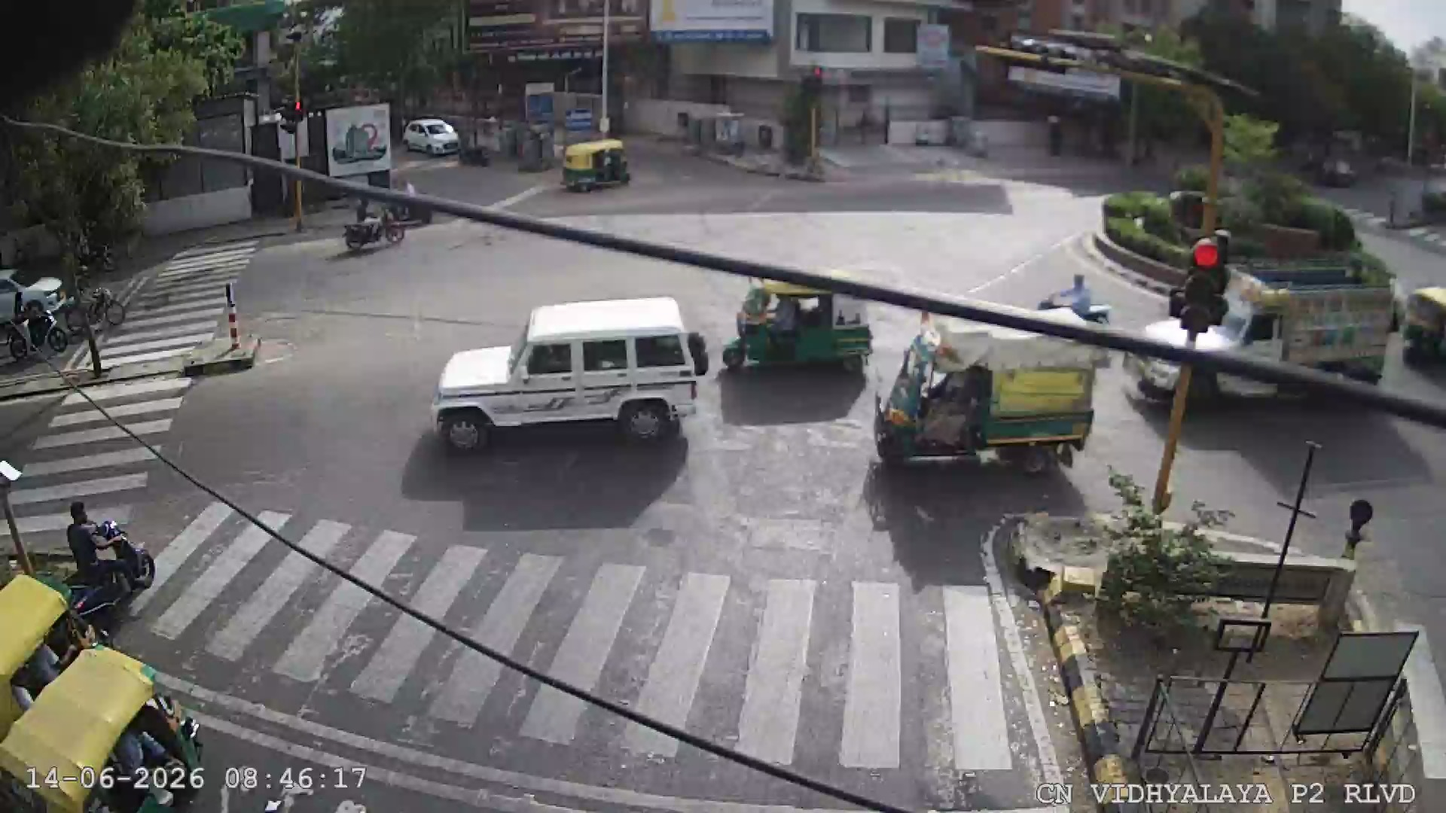auto_rickshaw: (869, 311, 1104, 476), (0, 633, 218, 801), (730, 272, 875, 375), (1398, 277, 1446, 372), (560, 134, 634, 193)
bus: (424, 168, 1082, 364), (1164, 216, 1402, 382)
car: (422, 284, 719, 448), (402, 111, 461, 156)
truck: (1161, 218, 1402, 372)
two_wheeler: (52, 495, 161, 600), (336, 194, 409, 259)
